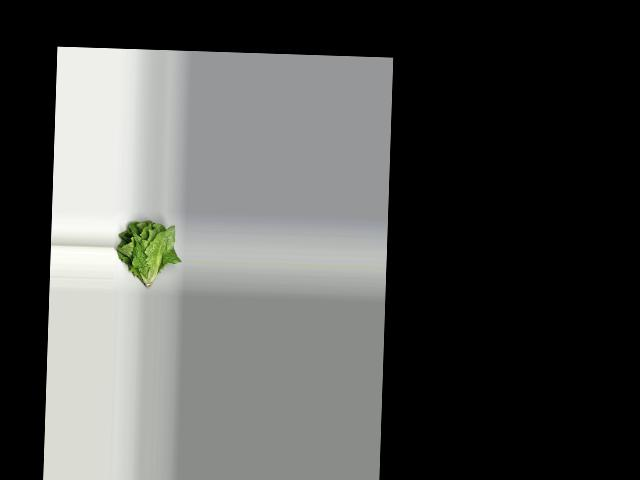lettuce: (115, 219, 182, 290)
